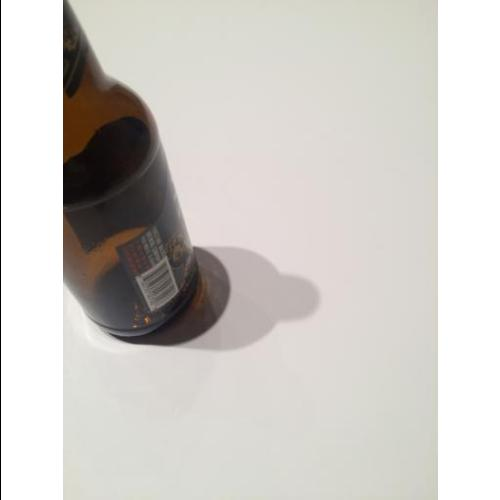glass: (66, 2, 199, 344)
